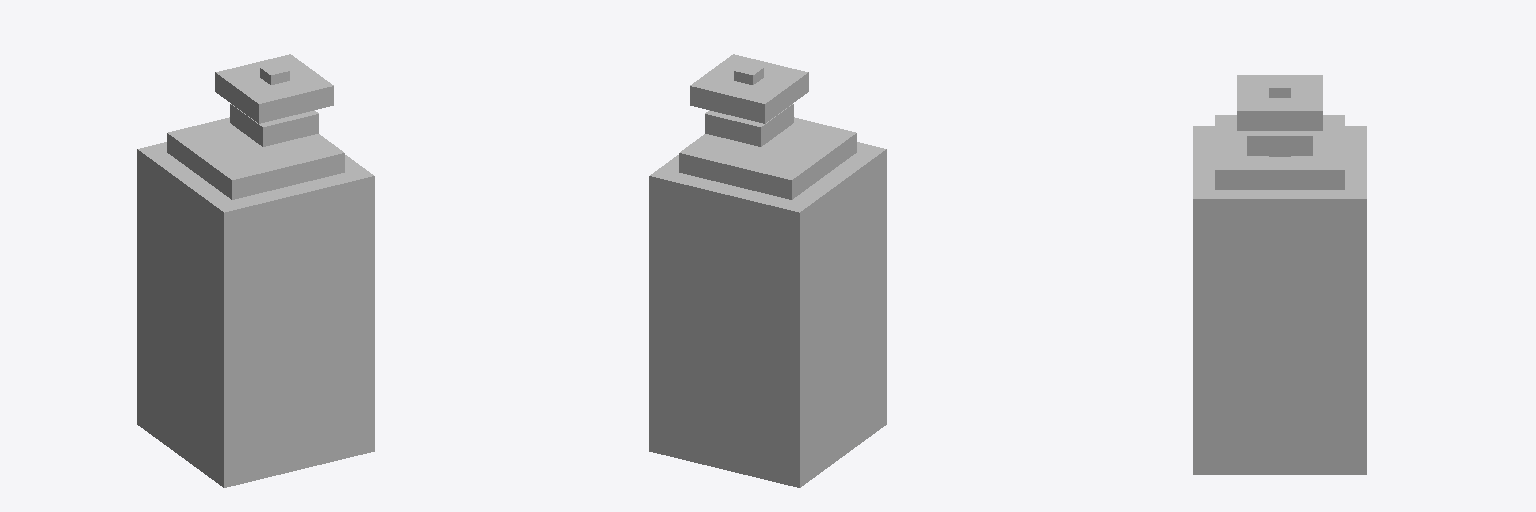
File: pole_adapter_tiny.obj
3 renders of one model, left to right at view 1: azimuth 30°, elevation 25°; view 2: azimuth 150°, elevation 25°; view 3: azimuth 270°, elevation 25°, orthographic.
Visible parts, largest first — view 1: pole_adapter_tiny; view 2: pole_adapter_tiny; view 3: pole_adapter_tiny.
Part boxes in pixels (x1,y1,x2,y2): pole_adapter_tiny: (137,54,374,487); pole_adapter_tiny: (649,54,886,487); pole_adapter_tiny: (1193,75,1366,474).
Size of the model in its own units: 0.5 by 1.16 by 0.5.